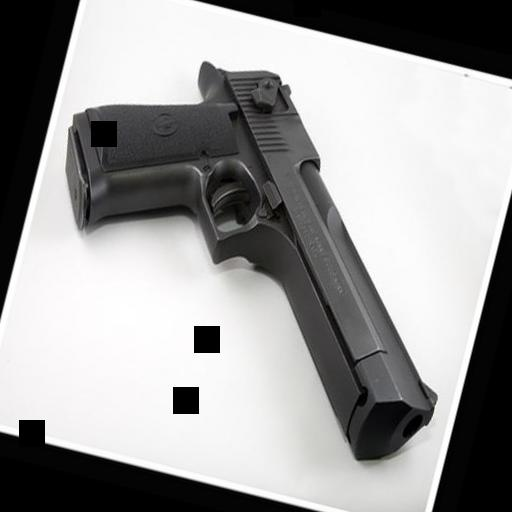Handgun: (2, 24, 504, 474)
